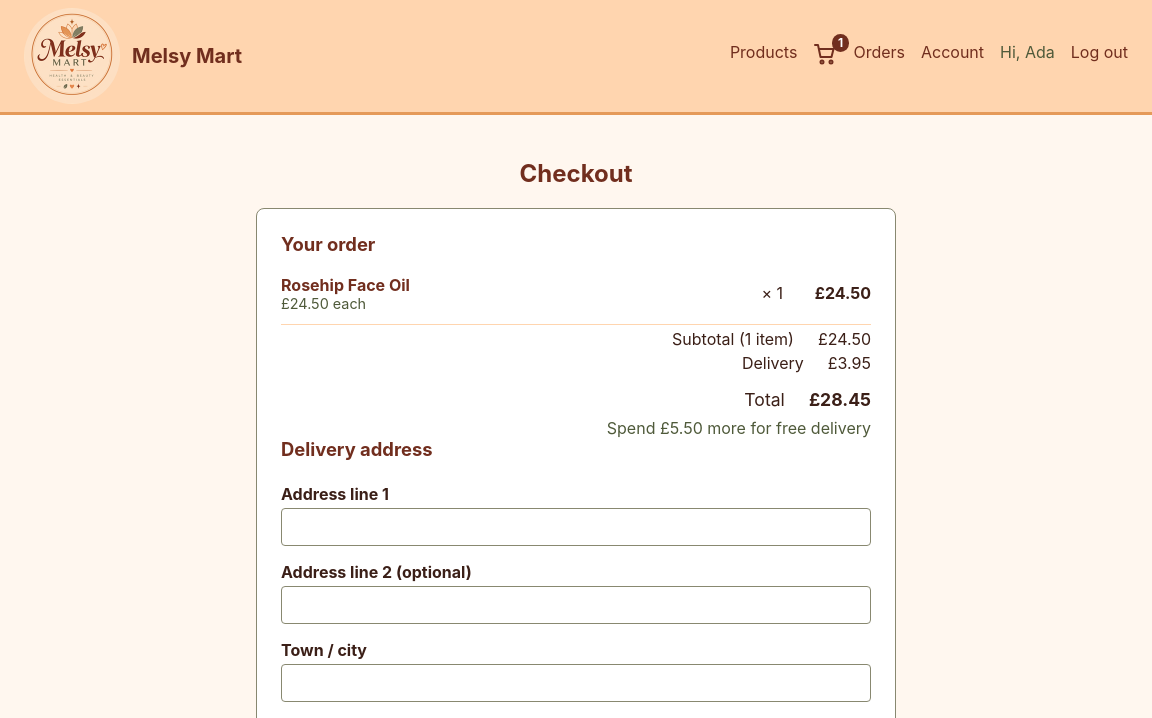
Test: sends one checkout for a double click
The width and height of the screenshot is (1152, 718).
Expected: the heading "Checkout" is shown, [520, 159, 632, 188]
Type "12 Rose Lane" into the field labelled "Address line 1" at (576, 527), box [281, 508, 871, 546]
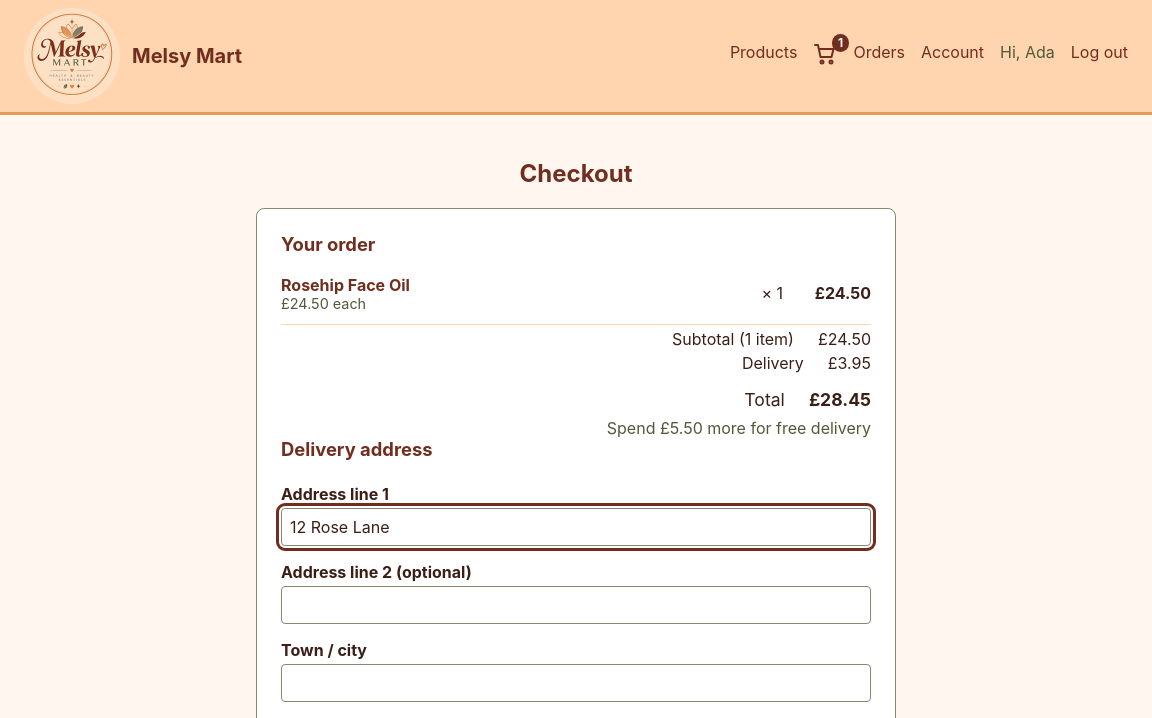
Type "Bristol" into the field labelled "Town / city" at (576, 683), box [281, 664, 871, 702]
(page scrolled)
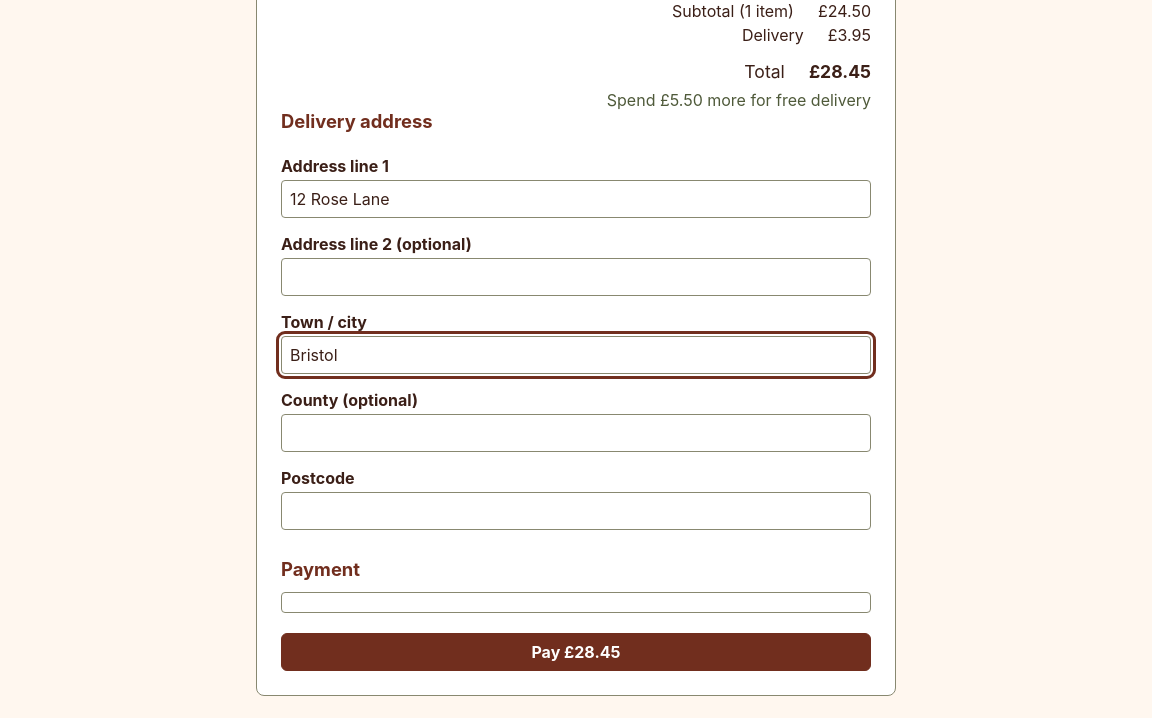
Type "BS1 4AB" into the field labelled "Postcode" at (576, 511), box [281, 492, 871, 530]
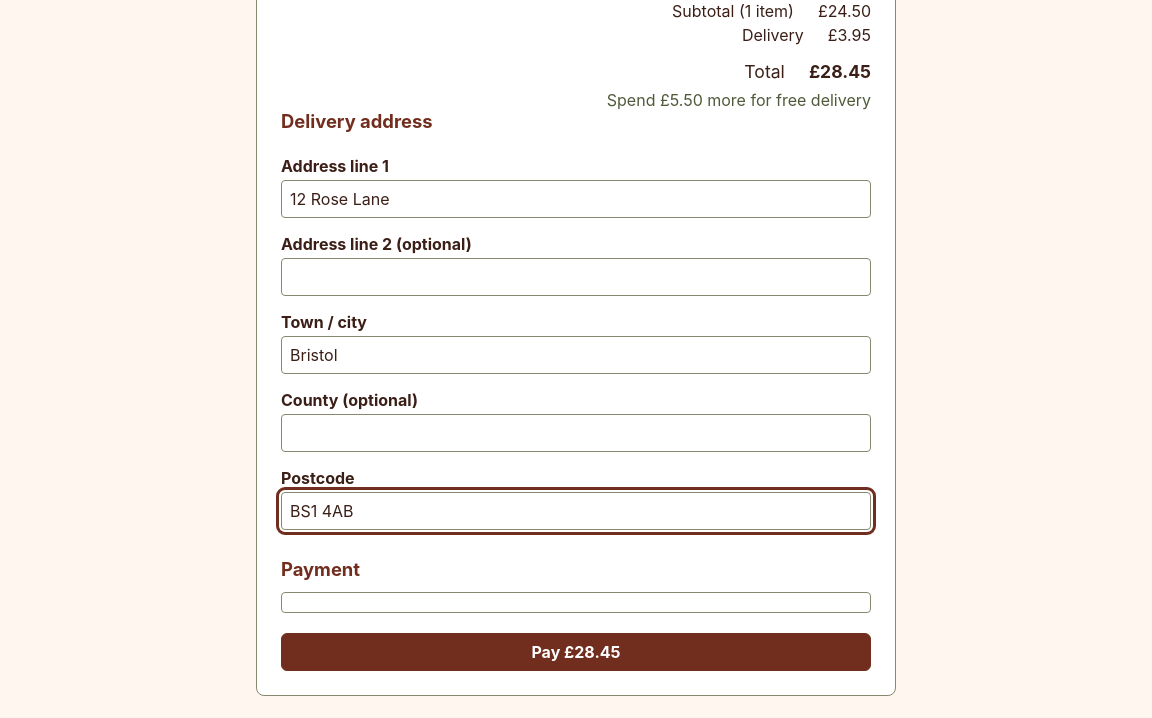
Submit the form named "Pay", box [281, 110, 871, 671]
Submit the form named "Pay", box [281, 110, 871, 671]
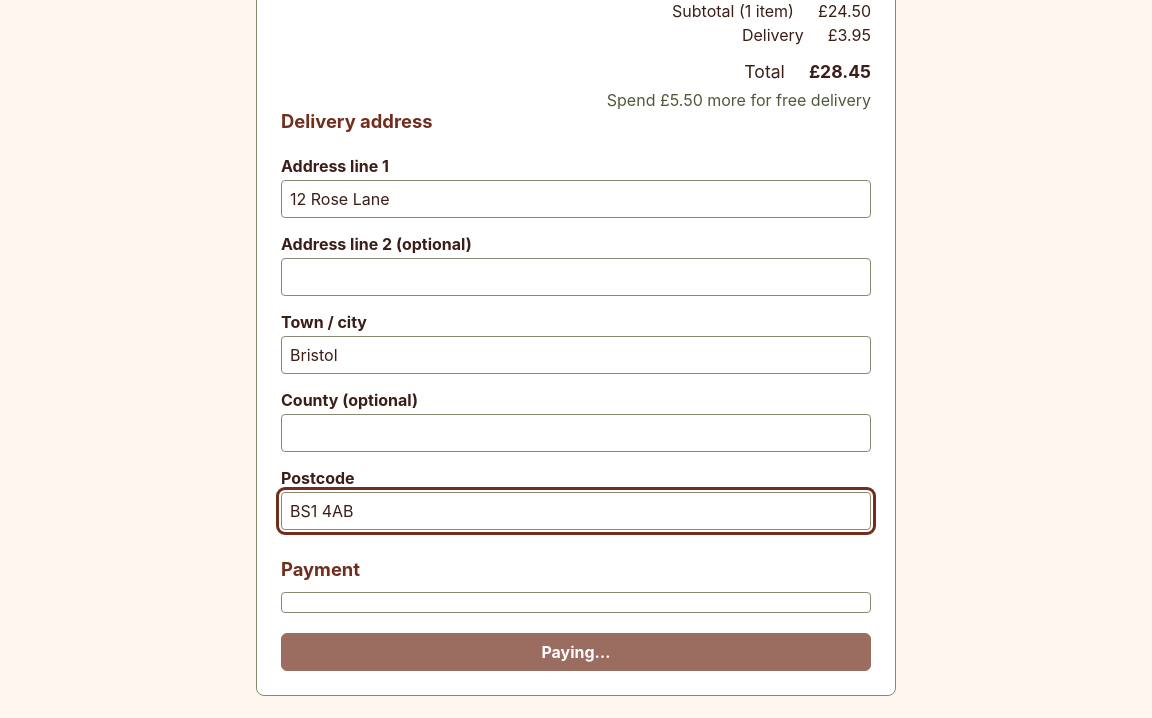
Now the button "Paying…" is disabled, box [281, 633, 871, 671]
